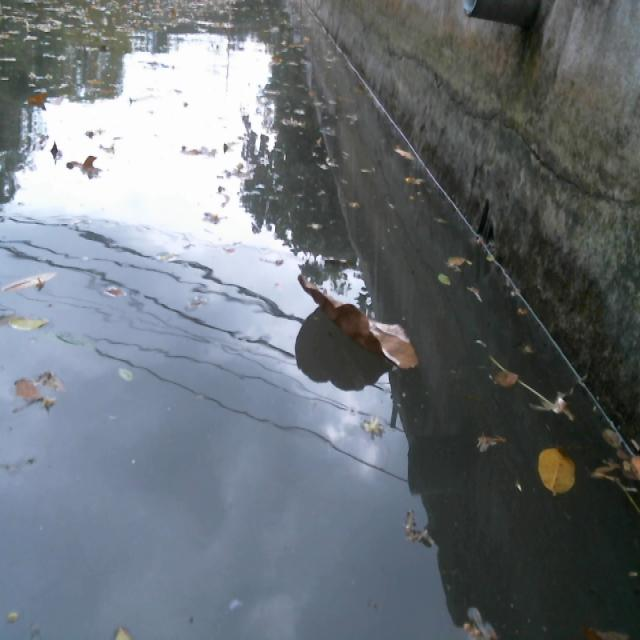Big-leaf: (293, 269, 422, 375)
Small-leaf: (533, 438, 582, 503), (9, 368, 56, 413), (2, 266, 55, 292), (0, 309, 52, 335), (488, 359, 524, 390), (579, 618, 629, 640), (587, 451, 620, 484), (472, 426, 508, 454), (65, 151, 103, 174), (387, 142, 418, 165), (598, 425, 625, 449), (26, 87, 50, 112), (107, 623, 139, 640), (623, 453, 640, 485), (101, 280, 129, 299), (401, 171, 429, 189), (443, 254, 474, 270), (116, 359, 135, 385), (5, 602, 22, 623), (437, 270, 452, 289), (52, 138, 62, 164), (345, 196, 362, 210)
